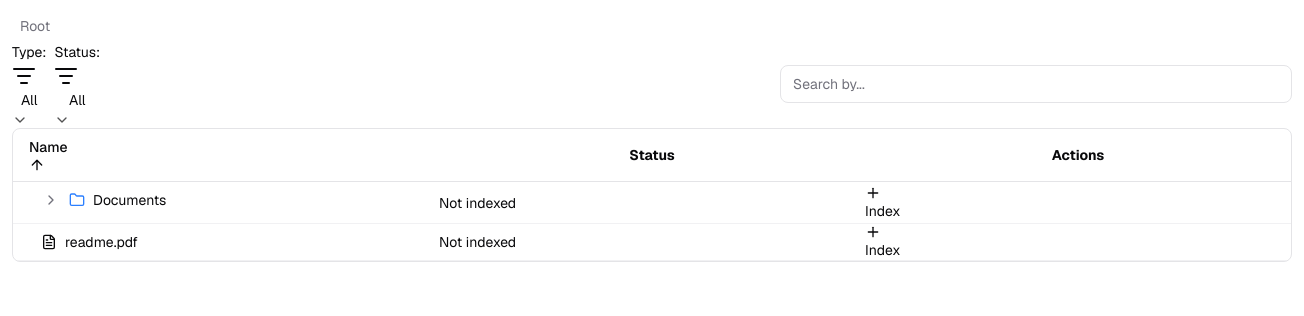
Test: FilePickerGoogleDriveContainer › Folder / children › should display a skeleton of rows inside a folder when expanding that folder and then see its content
Check: the text "Documents" is shown, box [93,190,166,210]
Click the button with aria-label "Documents, folder, collapsed" at (104, 200), box [41,190,166,210]
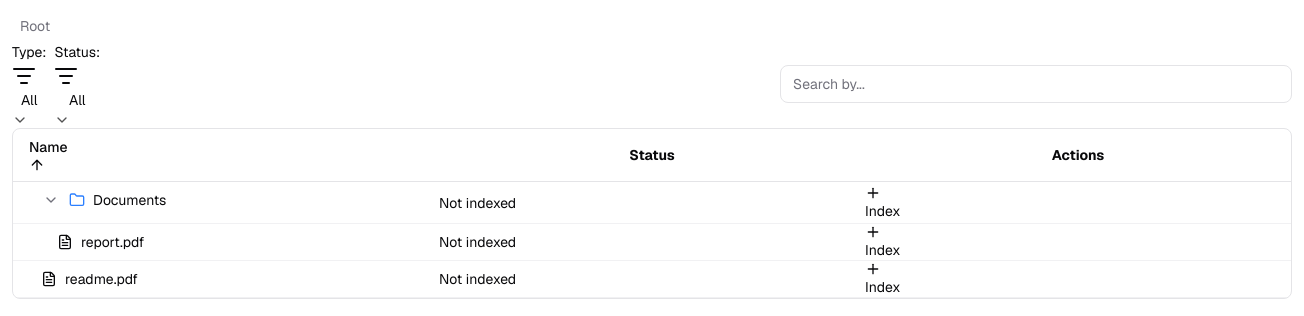
Check: the text "report.pdf" is shown, box [81,232,144,252]
